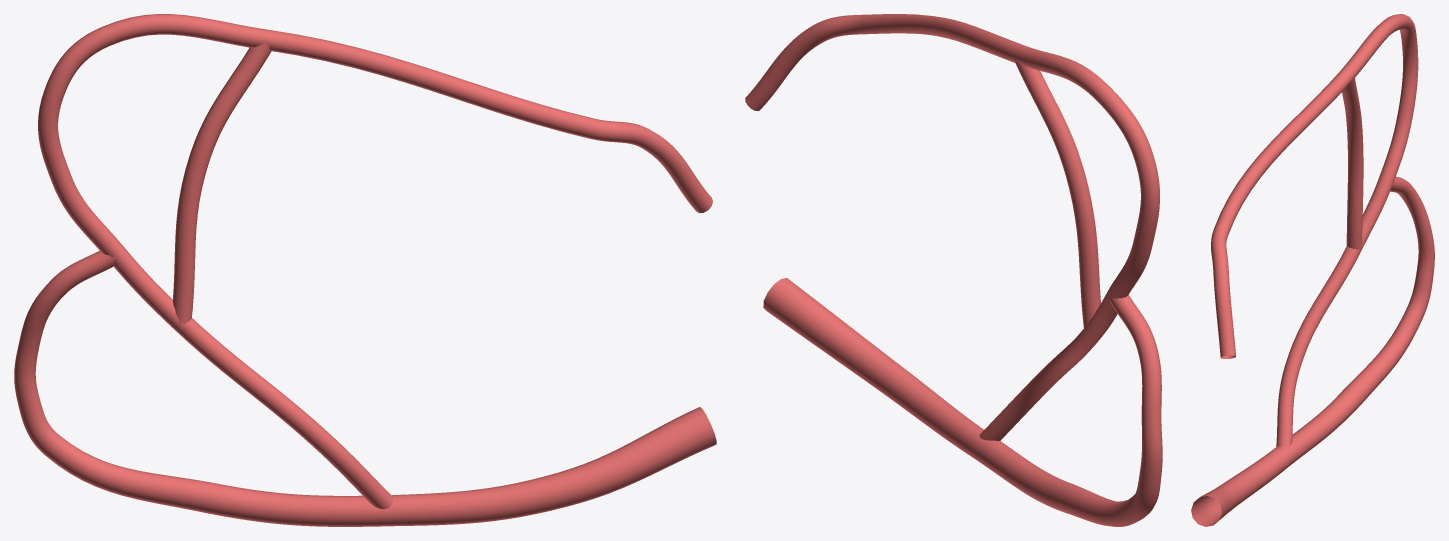
Rendered from Right_colic_artery.glb.
The picture shows the model from 3 angles, left to right: view 1: azimuth 30°, elevation 25°; view 2: azimuth 150°, elevation 25°; view 3: azimuth 270°, elevation 25°; orthographic projection. The views are drawn at different scales.
Parts seen in each view (by area): view 1: Right_colic_artery_BezierCurve.414; view 2: Right_colic_artery_BezierCurve.414; view 3: Right_colic_artery_BezierCurve.414.
Boxes of the visible parts, <box> form: Right_colic_artery_BezierCurve.414: <box>14,14,716,526</box>; Right_colic_artery_BezierCurve.414: <box>745,14,1162,526</box>; Right_colic_artery_BezierCurve.414: <box>1191,14,1434,526</box>.
Bounding box in the file's own units: 0.063 × 0.0535 × 0.031.
